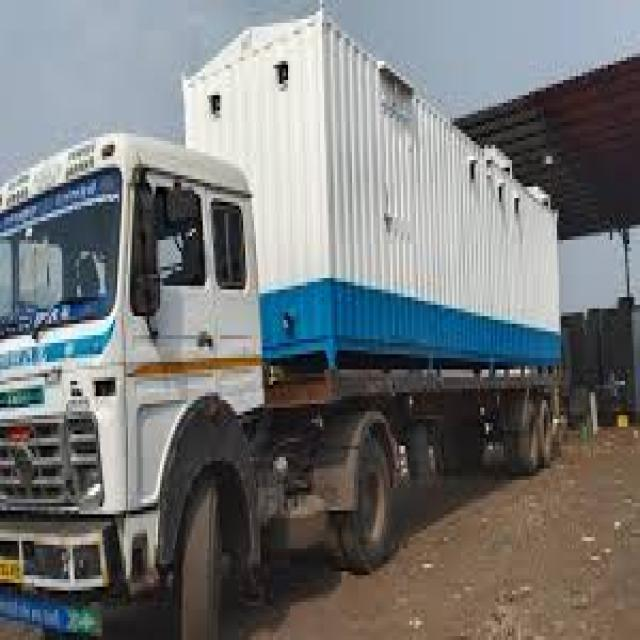covered: (0, 7, 565, 632)
